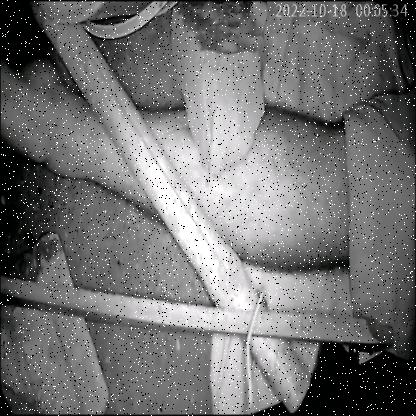leg: (0, 53, 382, 267)
